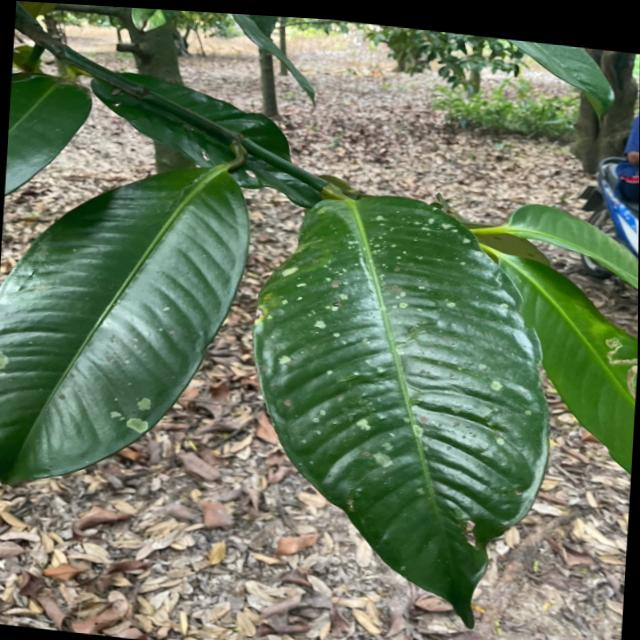Leaf Spot: (293, 194, 522, 491), (105, 389, 180, 453), (0, 334, 13, 382)
